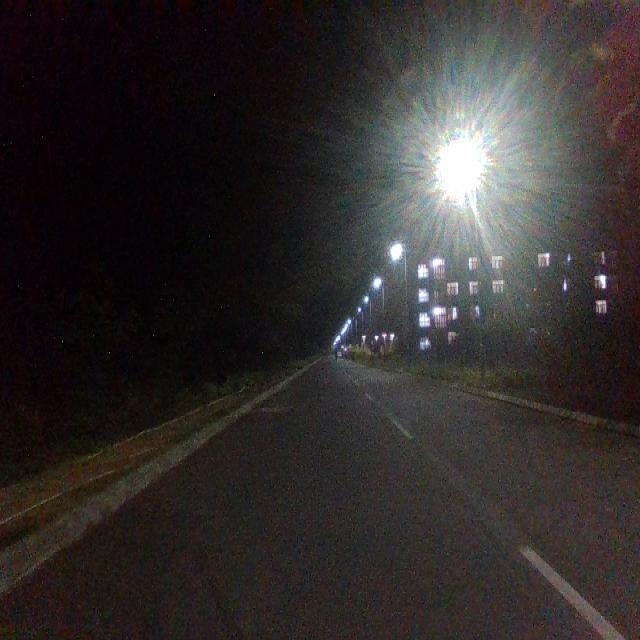lane: (0, 360, 606, 640)
